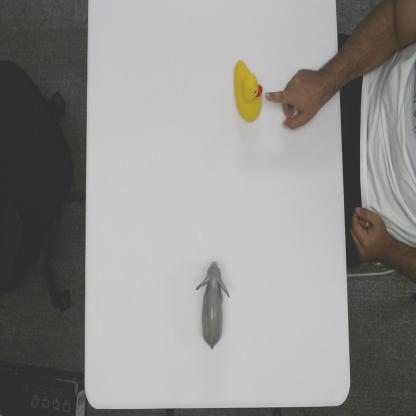Arm: (328, 54, 340, 100)
Duck: (230, 57, 264, 122)
Elephant: (196, 260, 230, 350)
Hand: (263, 62, 332, 134)
